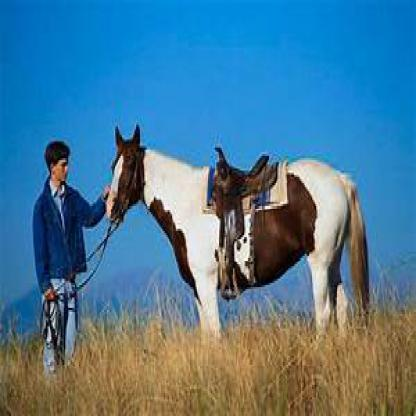horse: (104, 123, 373, 333)
